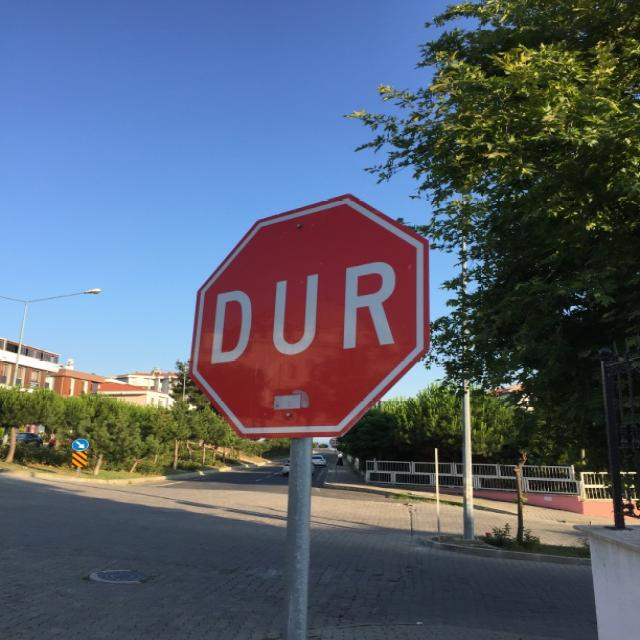dur: (189, 192, 434, 436)
